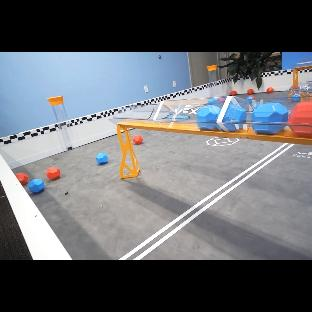Autolimit: (119, 143, 295, 260), (133, 144, 294, 260)
Goal: (110, 96, 312, 178)
Loader: (47, 96, 76, 150), (207, 65, 217, 97)
Med_goal: (288, 63, 312, 101)
V5_BLUE: (251, 104, 288, 123), (197, 105, 223, 130), (223, 104, 246, 122), (252, 125, 282, 134), (28, 179, 45, 193), (96, 152, 108, 165), (224, 124, 235, 132), (291, 94, 300, 101), (246, 96, 254, 102)
V5_RED: (288, 102, 312, 125), (290, 126, 312, 137), (46, 167, 61, 180), (15, 173, 28, 185), (133, 135, 142, 145), (247, 89, 255, 99), (266, 87, 273, 93), (230, 91, 237, 96)
blueingoal: (196, 103, 288, 135)
redingoal: (288, 102, 312, 125), (290, 126, 312, 137)
